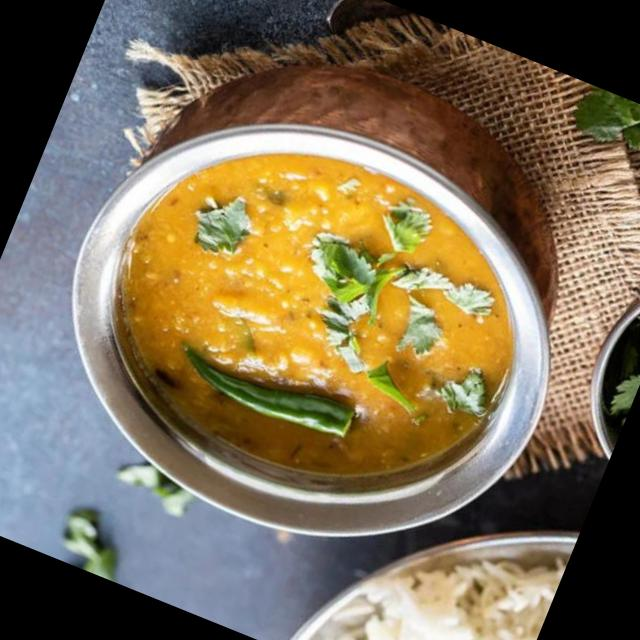dal: (115, 151, 512, 481)
